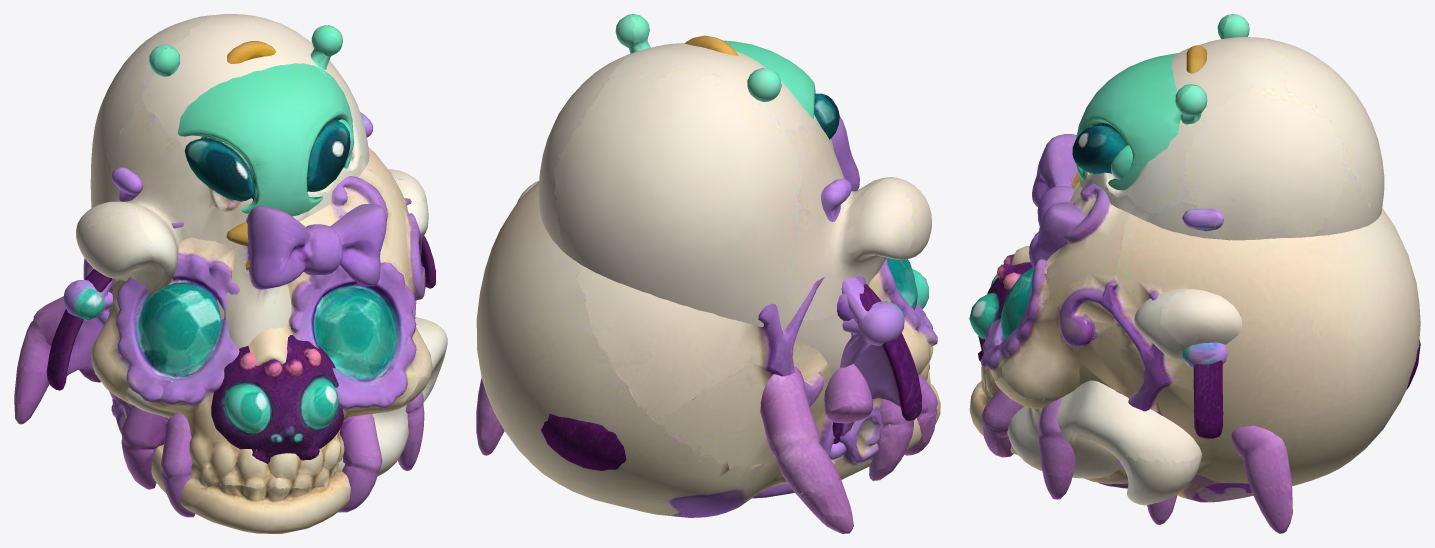
Rendered from store_items_sheet_12_mobile.glb.
The picture shows the model from 3 angles, left to right: view 1: azimuth 30°, elevation 25°; view 2: azimuth 150°, elevation 25°; view 3: azimuth 270°, elevation 25°; orthographic projection. The views are drawn at different scales.
Visible parts, largest first — view 1: hall_skull, hall_ghost, hall_spider, hall_alien, hall_bat, hall_web; view 2: hall_ghost, hall_skull, hall_spider, hall_alien, hall_web, hall_bat; view 3: hall_skull, hall_ghost, hall_spider, hall_alien, hall_web, hall_bat.
Boxes of the visible parts, x1,y1,x2,y2 form: hall_skull: (83, 147, 432, 533); hall_ghost: (76, 14, 447, 488); hall_spider: (14, 296, 424, 517); hall_alien: (149, 25, 353, 216); hall_bat: (46, 235, 435, 402); hall_web: (63, 41, 372, 417); hall_ghost: (517, 43, 933, 376); hall_skull: (476, 181, 940, 517); hall_spider: (476, 269, 937, 533); hall_alien: (615, 14, 839, 498); hall_web: (685, 35, 904, 459); hall_bat: (832, 284, 921, 443); hall_skull: (969, 172, 1420, 502); hall_ghost: (1007, 37, 1384, 505); hall_spider: (969, 254, 1420, 533); hall_alien: (1072, 14, 1289, 488); hall_web: (1182, 45, 1227, 368); hall_bat: (1193, 360, 1223, 438).
Bounding box in the file's own units: 1.55 × 1.55 × 1.55.
Materials: 1 (1 with a texture image).
